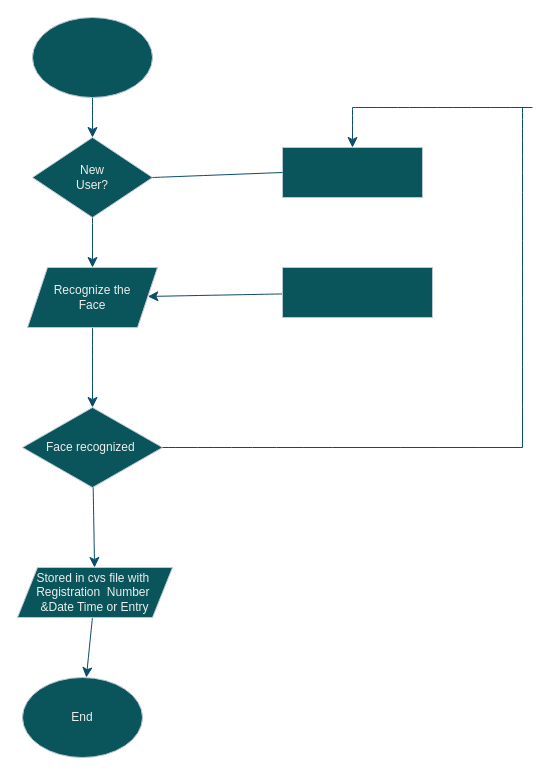
Some shapes in this 551 by 775 pixel diagram are drawn without their labels. The shapes that lost their labels are listed below. From the top down, each one's centre as x and y in pixels, then its label:
At point 92,57: "Start".
At point 352,172: "Give your photograph".
At point 357,292: "Stored the face data In folder on your name".
